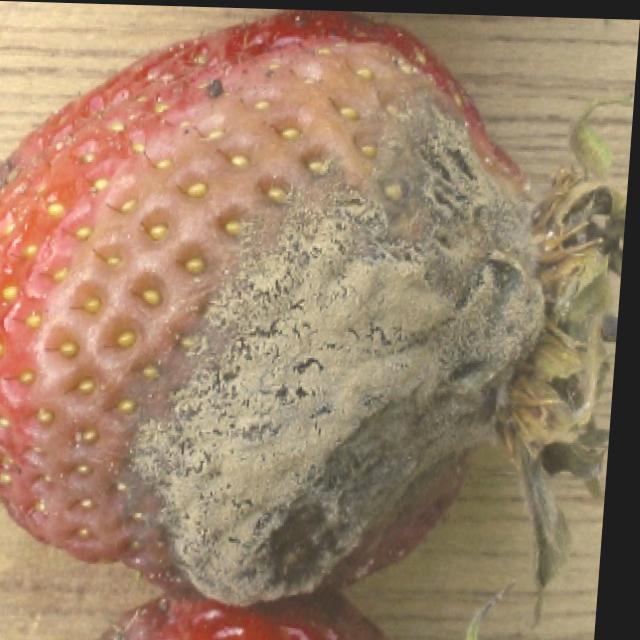Gray Mold: (0, 8, 614, 604), (94, 586, 259, 640)
